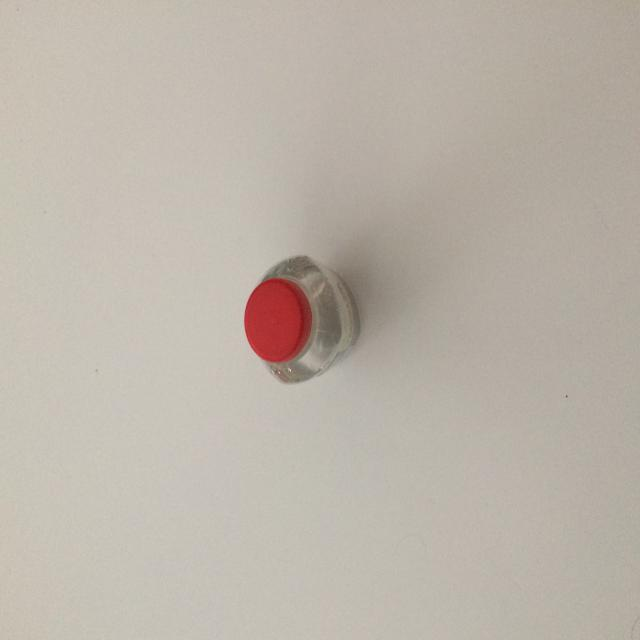plastic: (243, 253, 361, 384)
